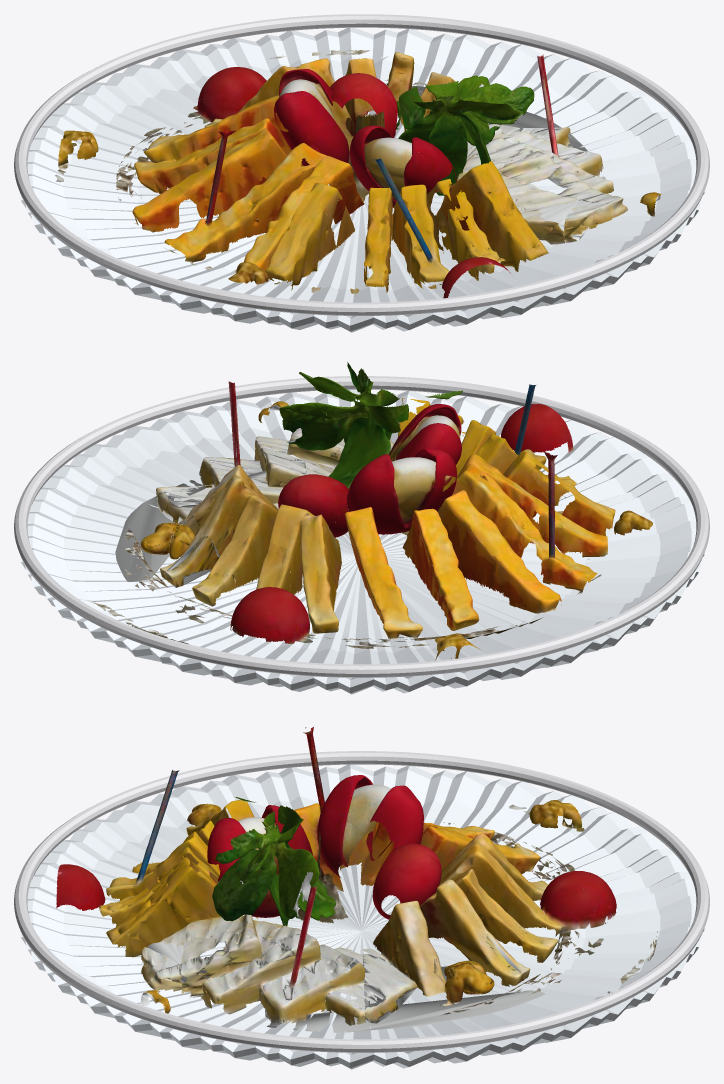
File: pishloq.glb
3 views of the same model, one above another, from view 1: azimuth 30°, elevation 25°; view 2: azimuth 150°, elevation 25°; view 3: azimuth 270°, elevation 25° (orthographic).
Parts seen in each view (by area): view 1: tripo_node_8eb806f4-713f-49cb-a776-1a436d103589, glassplate, rim; view 2: tripo_node_8eb806f4-713f-49cb-a776-1a436d103589, glassplate, rim; view 3: tripo_node_8eb806f4-713f-49cb-a776-1a436d103589, glassplate, rim.
Boxes of the visible parts, x1,y1,x2,y2 form: tripo_node_8eb806f4-713f-49cb-a776-1a436d103589: [55, 50, 660, 298]; glassplate: [19, 27, 704, 332]; rim: [14, 14, 709, 315]; tripo_node_8eb806f4-713f-49cb-a776-1a436d103589: [87, 362, 652, 660]; glassplate: [19, 389, 704, 694]; rim: [14, 376, 709, 677]; tripo_node_8eb806f4-713f-49cb-a776-1a436d103589: [56, 727, 657, 1032]; glassplate: [19, 764, 704, 1069]; rim: [14, 751, 709, 1052].
Bounding box in the file's own units: 1.03 × 0.235 × 1.03.
Materials: 3 (1 with a texture image).
